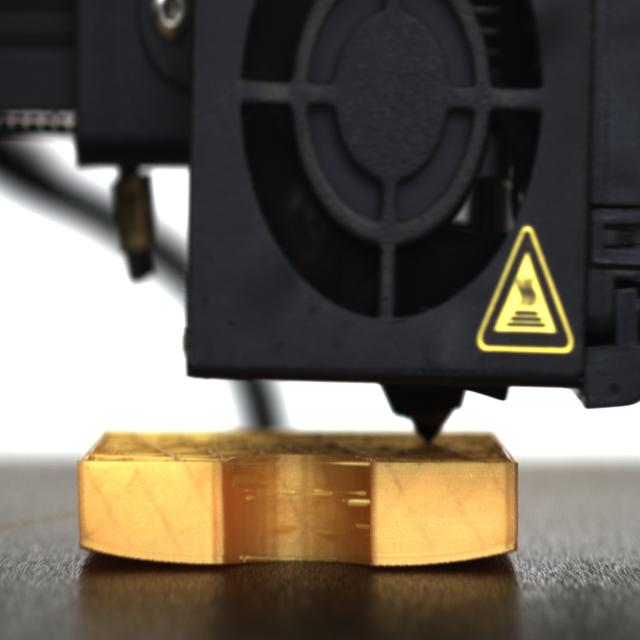Warping: (440, 538, 519, 570), (76, 534, 146, 569)
